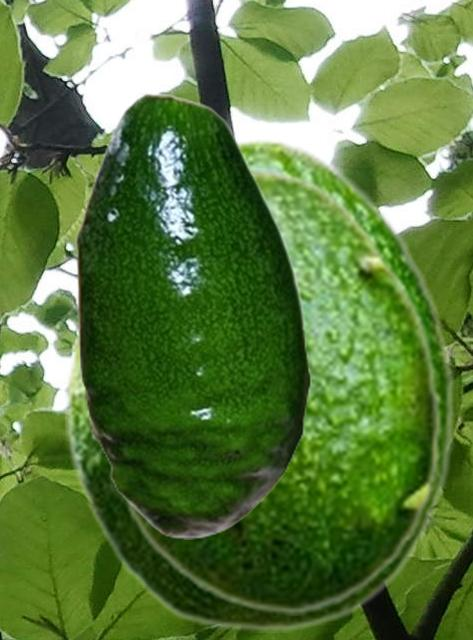avocado: (65, 137, 455, 631), (102, 168, 442, 614), (75, 92, 310, 538)
